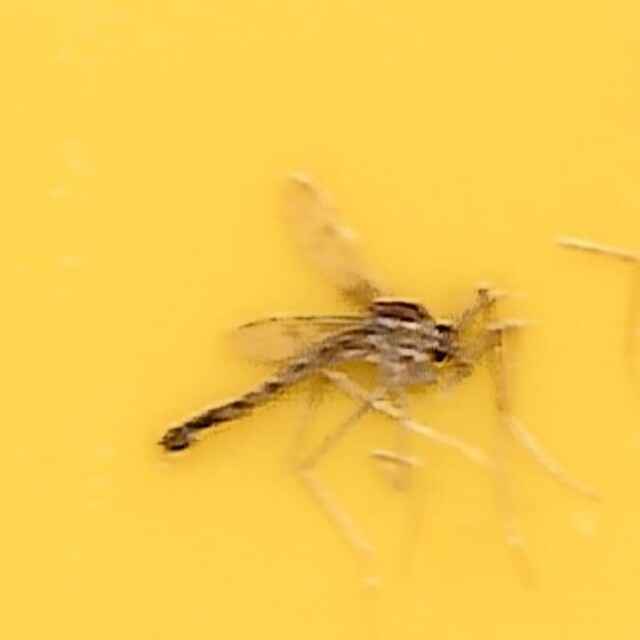Nematocera: (159, 177, 481, 463)
